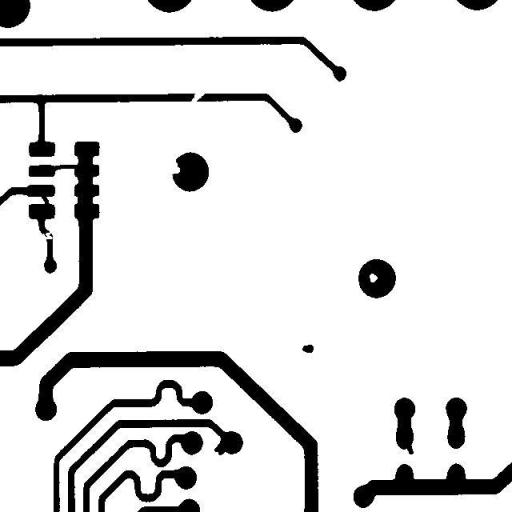copper: (294, 337, 321, 360)
mousebite: (161, 152, 187, 181)
open: (182, 83, 212, 114), (34, 220, 60, 246)
pin-hole: (362, 266, 384, 290)
short: (40, 157, 85, 178), (34, 186, 56, 214)
spur: (206, 432, 236, 462), (399, 432, 421, 462)
